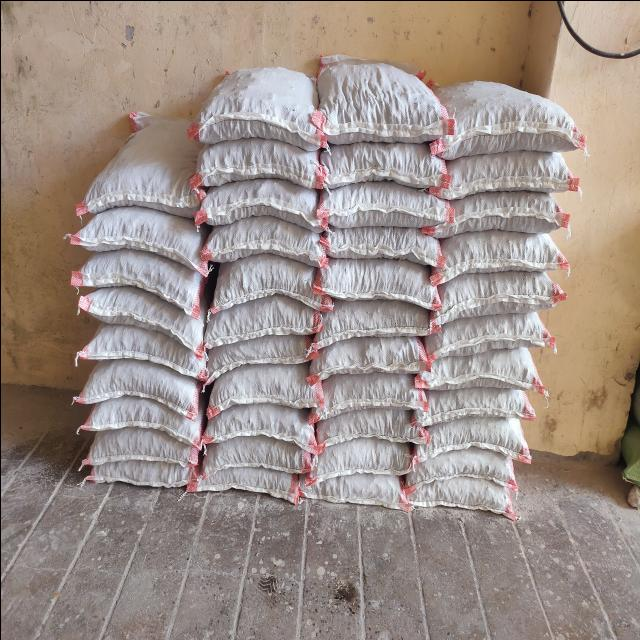Gravel: (78, 121, 194, 210), (320, 62, 447, 136), (451, 86, 581, 146), (198, 78, 319, 138), (196, 143, 319, 188), (322, 143, 444, 188), (78, 215, 212, 255), (201, 222, 325, 262), (75, 325, 205, 362), (452, 154, 570, 194), (445, 196, 563, 236), (322, 190, 440, 230), (215, 261, 319, 305), (439, 238, 563, 274), (439, 278, 563, 314), (327, 229, 441, 267), (205, 183, 318, 220), (77, 257, 209, 287), (74, 295, 213, 322), (325, 263, 435, 297), (318, 305, 428, 339), (79, 366, 203, 396), (80, 398, 204, 428), (205, 303, 320, 335), (430, 320, 551, 350), (85, 430, 202, 460), (212, 368, 314, 402), (318, 338, 428, 368), (317, 377, 427, 407), (428, 358, 534, 388), (416, 479, 512, 509), (420, 447, 516, 477), (426, 416, 522, 446), (426, 386, 522, 416), (209, 408, 311, 436), (207, 440, 308, 468), (319, 409, 413, 439), (319, 445, 413, 475), (308, 472, 402, 502), (210, 337, 314, 363), (90, 460, 194, 484), (196, 469, 300, 493)
